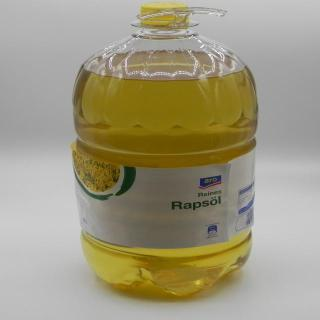Plastic-bottle: (65, 1, 267, 303)
